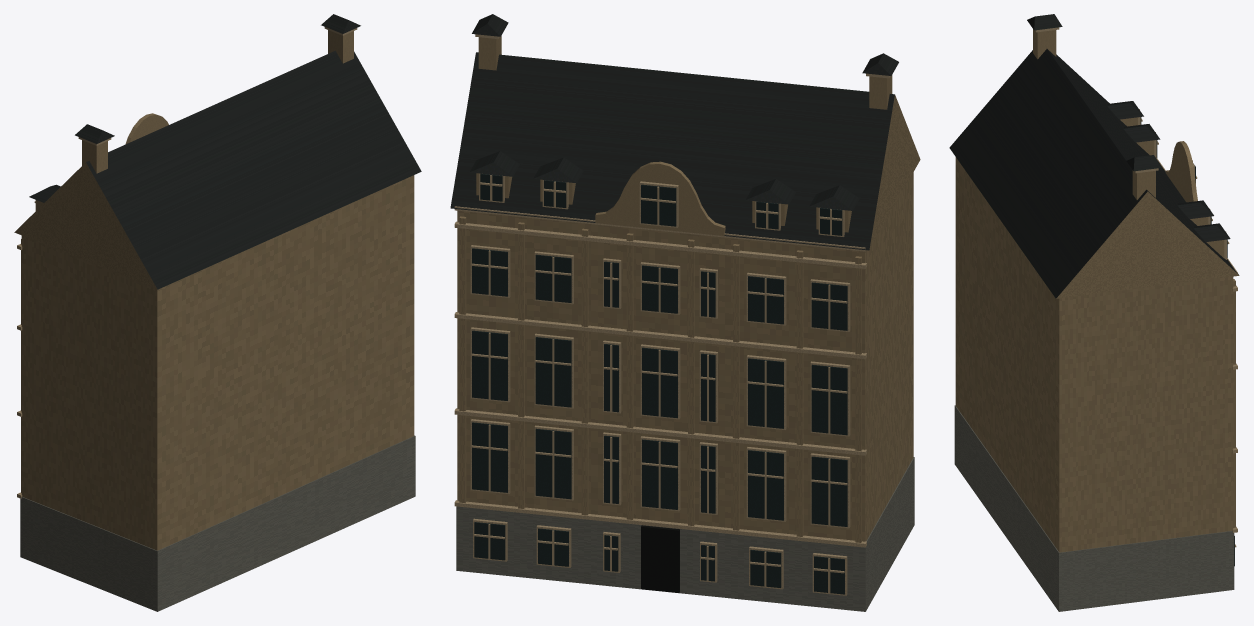
3 renders of one model, left to right at view 1: azimuth 30°, elevation 25°; view 2: azimuth 150°, elevation 25°; view 3: azimuth 270°, elevation 25°, orthographic. The views are drawn at different scales.
Visible parts, largest first — view 1: nhm-zuidblaak-0, nhm-zuidblaak-1, nhm-zuidblaak-2; view 2: nhm-zuidblaak-0, nhm-zuidblaak-1, nhm-zuidblaak-4, nhm-zuidblaak-3, nhm-zuidblaak-2, nhm-zuidblaak-5; view 3: nhm-zuidblaak-0, nhm-zuidblaak-1, nhm-zuidblaak-2, nhm-zuidblaak-3.
Part boxes in pixels (<box>): nhm-zuidblaak-0: <box>14,30,414,550</box>; nhm-zuidblaak-1: <box>29,14,421,289</box>; nhm-zuidblaak-2: <box>20,435,415,611</box>; nhm-zuidblaak-0: <box>457,36,920,542</box>; nhm-zuidblaak-1: <box>450,14,898,250</box>; nhm-zuidblaak-4: <box>472,173,847,594</box>; nhm-zuidblaak-3: <box>454,34,889,595</box>; nhm-zuidblaak-2: <box>456,457,914,611</box>; nhm-zuidblaak-5: <box>641,525,679,592</box>; nhm-zuidblaak-0: <box>955,29,1239,552</box>; nhm-zuidblaak-1: <box>949,14,1238,298</box>; nhm-zuidblaak-2: <box>954,405,1234,611</box>; nhm-zuidblaak-3: <box>1035,27,1237,547</box>.
Bounding box in the file's own units: 20.44 × 24.15 × 14.39.
6 materials, 6 textured.
